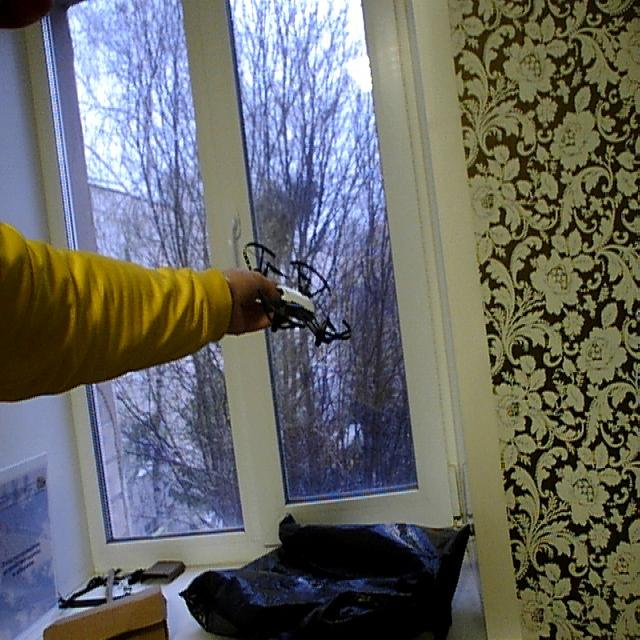drone: (231, 232, 360, 360)
